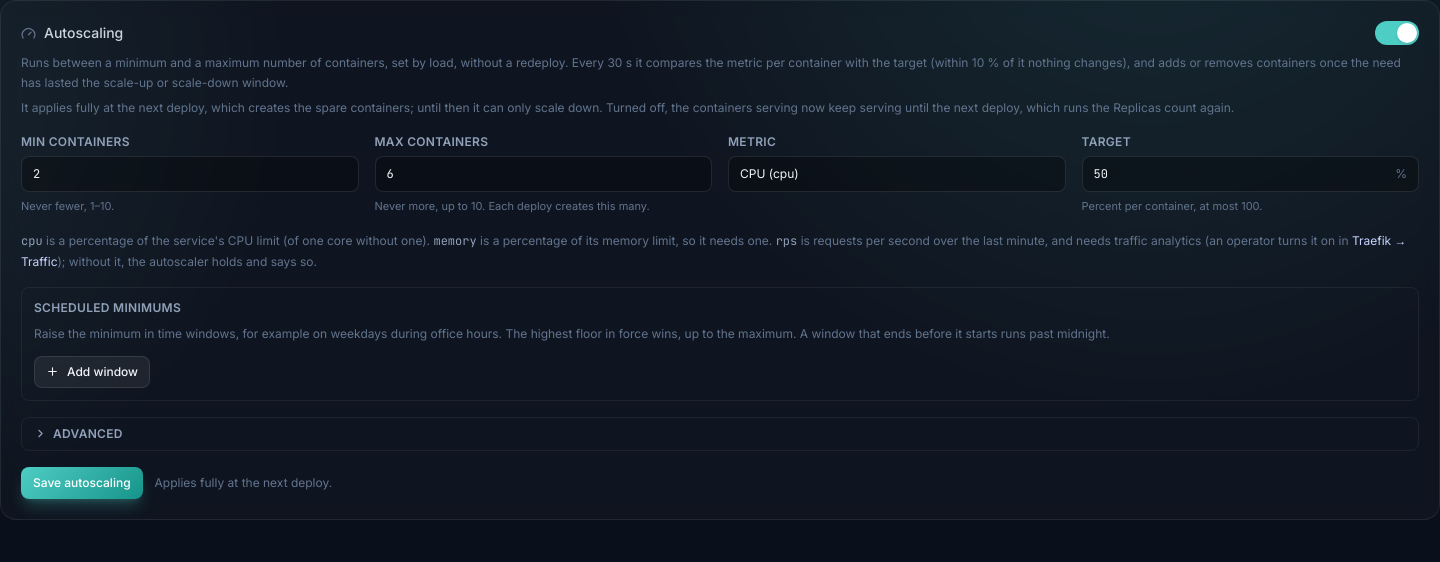
Test: AutoscaleCard › warns that memory needs a memory limit
Expected: the text "has no memory limit" is not shown
Select "Memory (memory)" in the dropdown labelled "Metric" at (897, 174), box [728,156,1066,192]
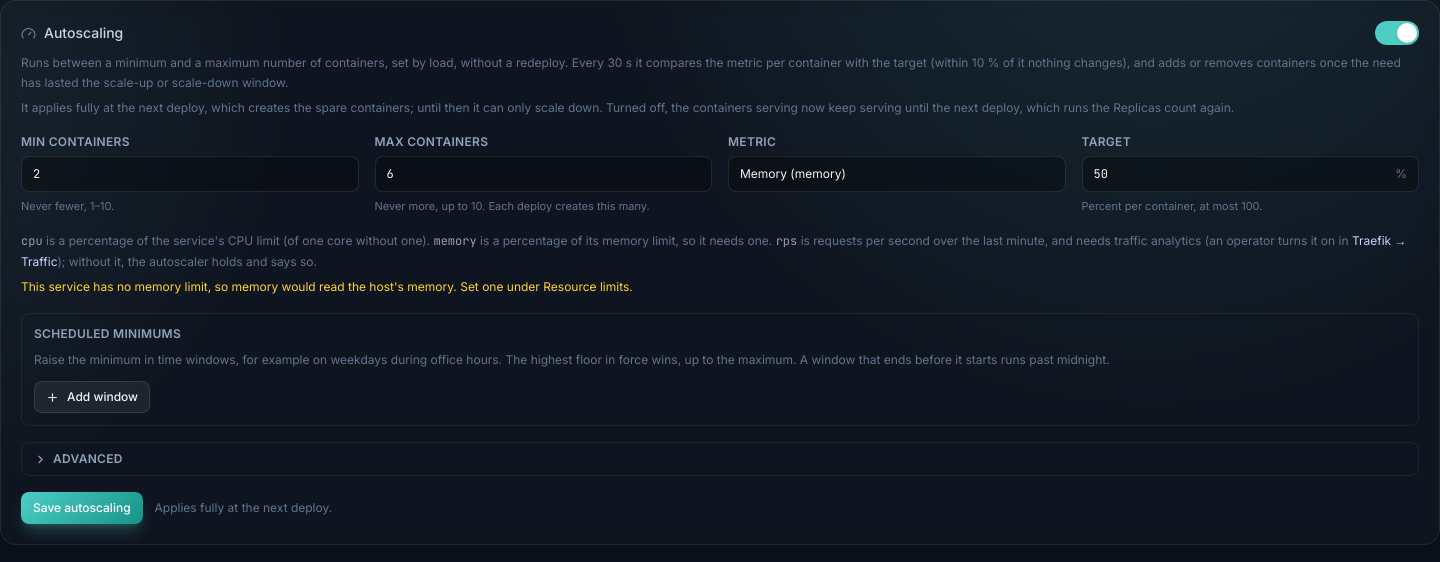
Expected: the text "Percent per container, at most 100." is shown, [1082,198,1262,212]
Expected: the text "has no memory limit, so memory would read the host's memory" is shown, [21,279,633,294]
